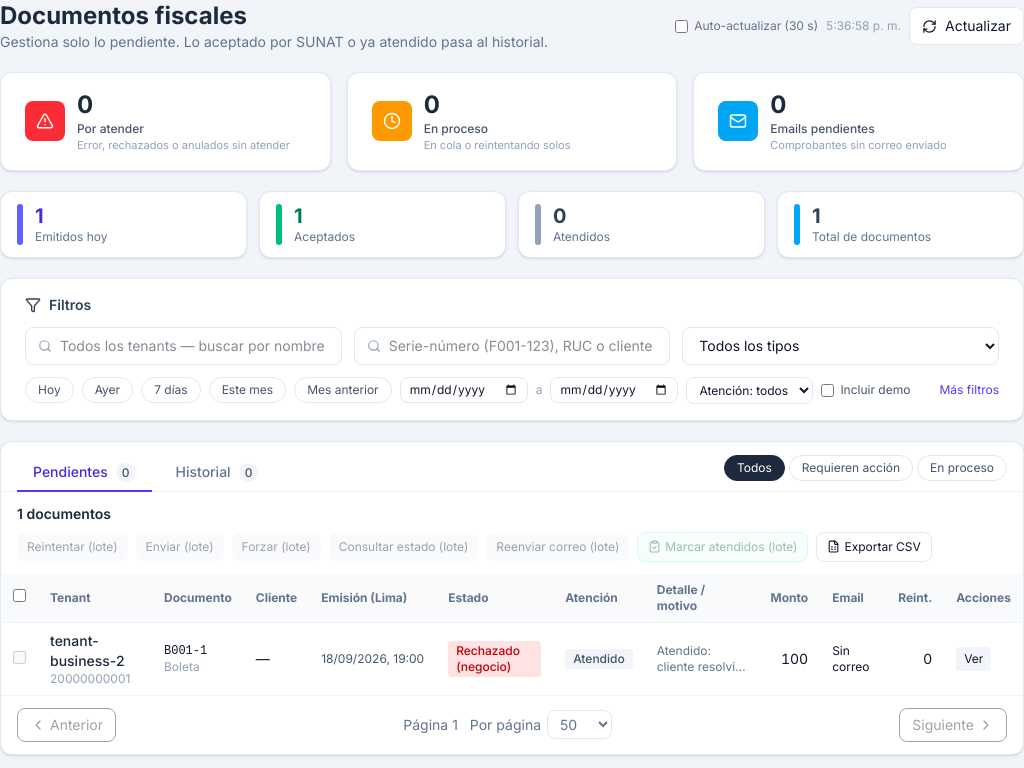
Test: "Atendido" (2026-09-22) — independiente del status técnico, nunca se mezcla con fiscalGroup › un documento atendido oculta send/retry/force/poll/email y solo ofrece "Quitar atendido"
The image size is (1024, 768).
Click the text "tenant-business-2" at (87, 650), box [50,632,125,668]
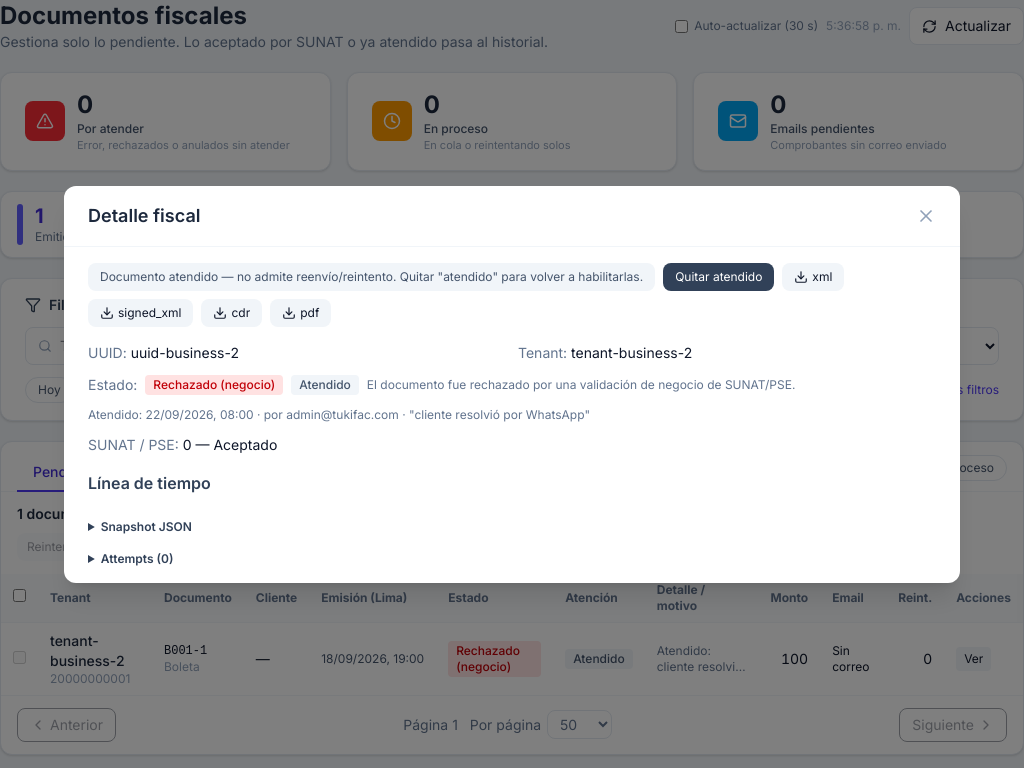
Check: the text "UUID:" is shown, box [88,344,127,360]
Check: the button "Quitar atendido" is shown, box [663,262,774,290]
Check: the text "no admite reenvío/reintento" is shown, box [100,268,643,284]
